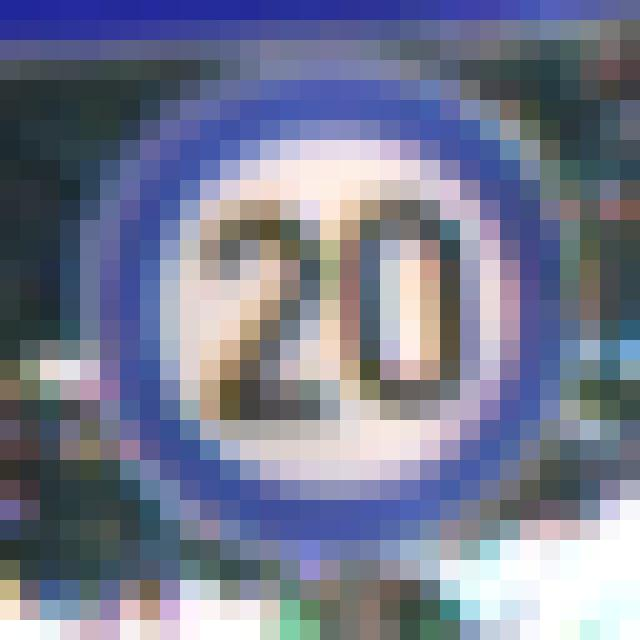SPEED LIMIT 20: (107, 73, 556, 519)
